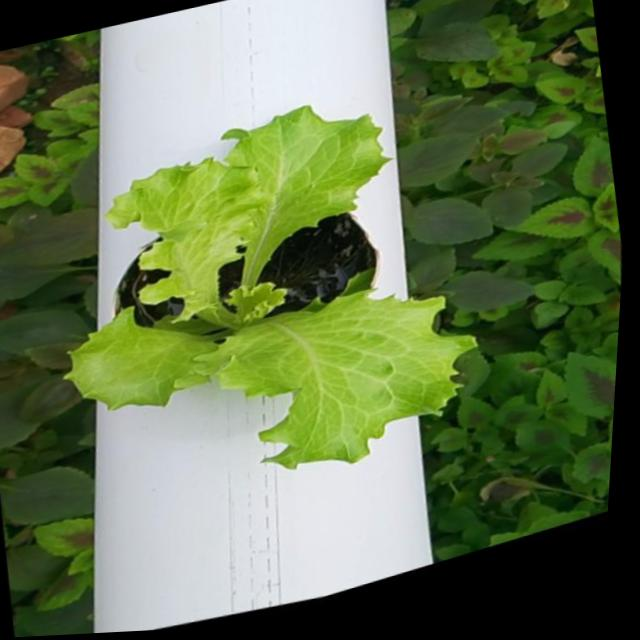Baby: (64, 106, 474, 468)
